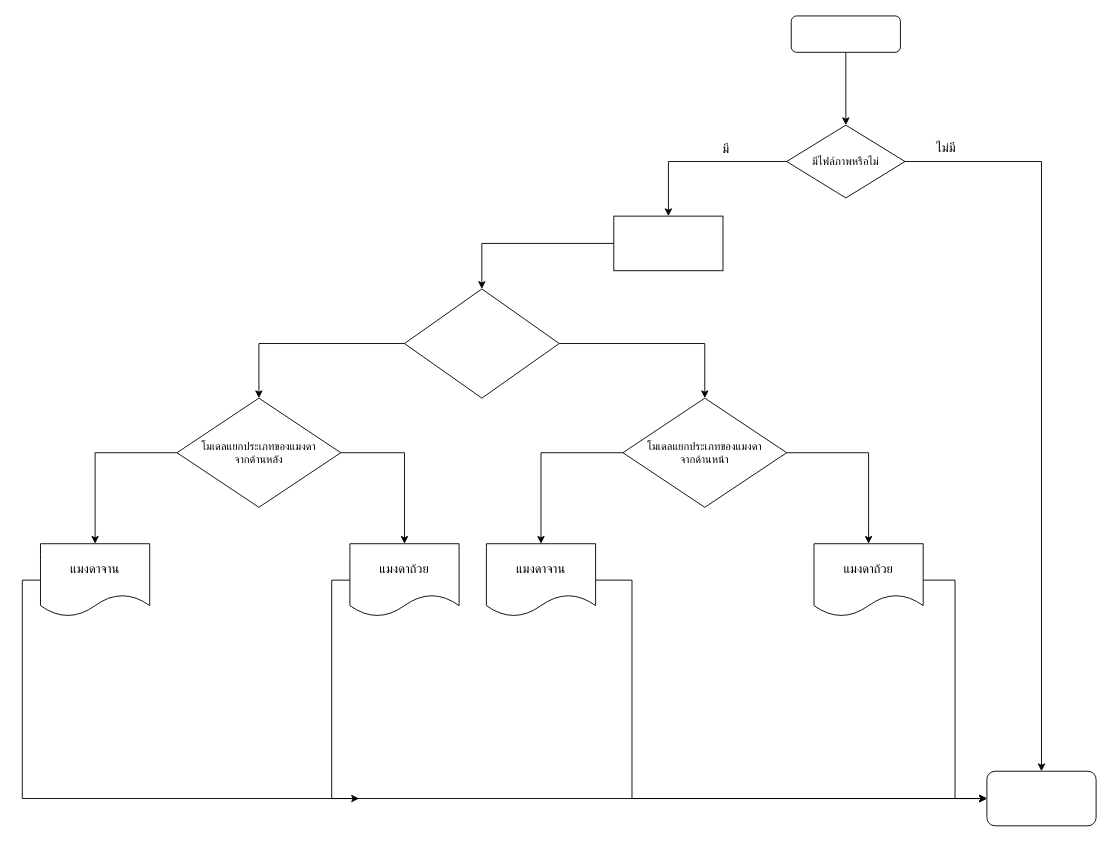
This 1112x842 diagram has some shape labels left out. Here are the shapes that lost their labels. From the top down, the centre of each, then its label:
At point (845, 33): "เริ่มต้น".
At point (668, 243): "resizeภาพเป็น(224,224)".
At point (481, 343): "โมเดลแยกหน้า-หลัง".
At point (1041, 798): "จบการทำงาน".
